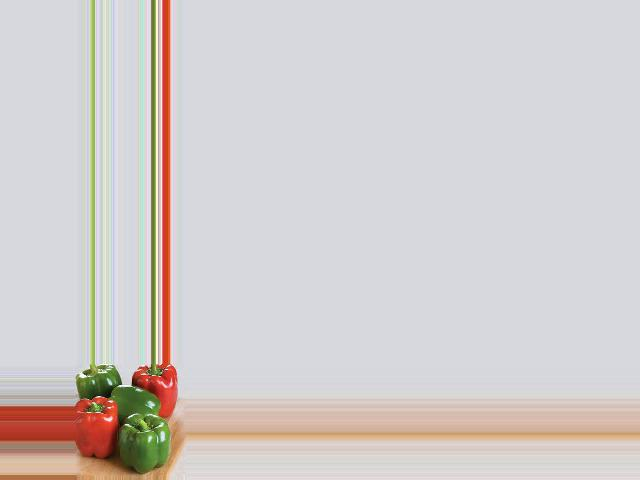bell_pepper: (75, 398, 121, 464)
